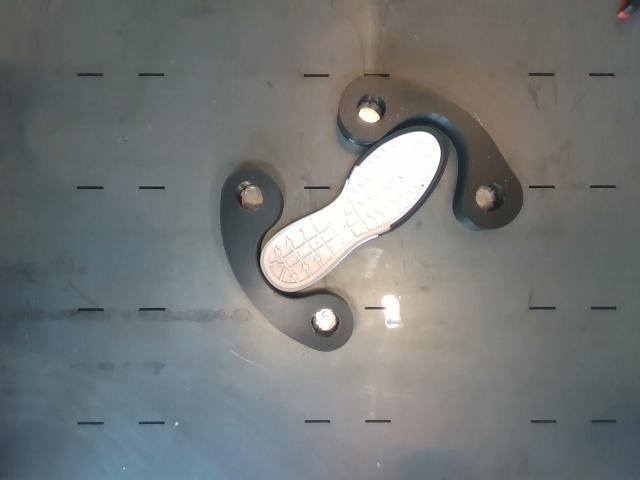shoes: (262, 126, 446, 291)
